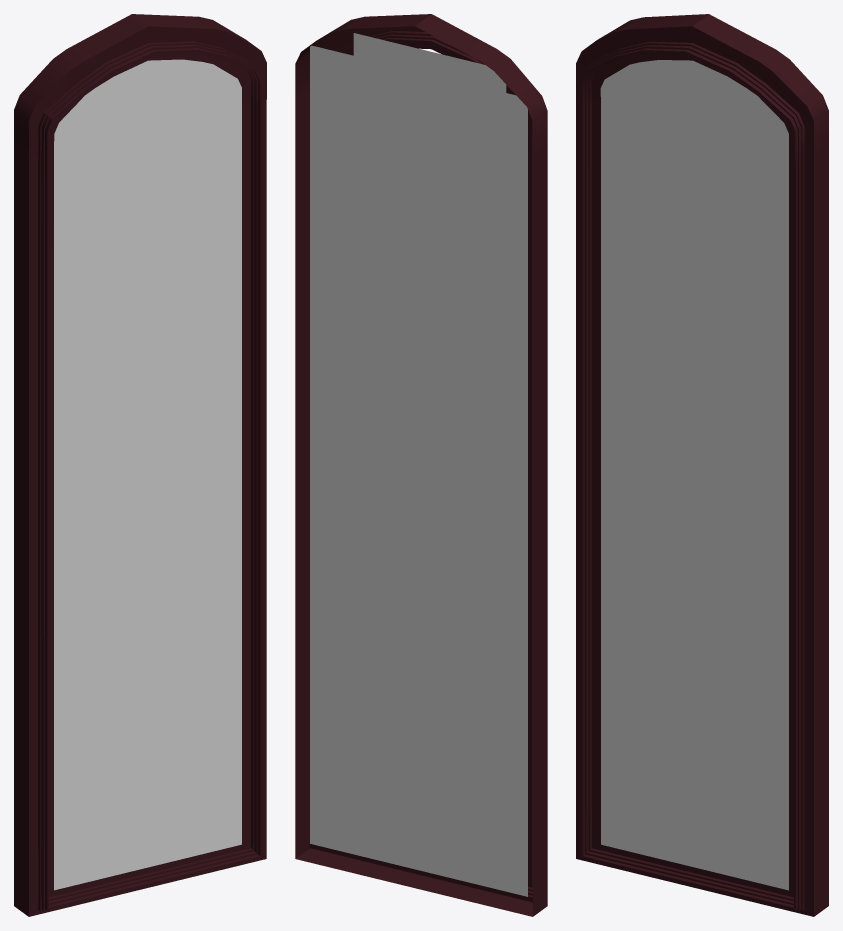
File: Single_Glass_Tall_1_.fbx
3 views of the same model, side by side, from view 1: azimuth 30°, elevation 25°; view 2: azimuth 150°, elevation 25°; view 3: azimuth 330°, elevation 25° (orthographic).
Visible parts, largest first — view 1: Plane.009, Paint 1.004; view 2: Plane.009, Paint 1.004; view 3: Plane.009, Paint 1.004.
Boxes of the visible parts, bbox=[...] form: Plane.009: bbox=[54, 59, 241, 890]; Paint 1.004: bbox=[14, 14, 266, 916]; Plane.009: bbox=[310, 33, 527, 896]; Paint 1.004: bbox=[295, 14, 547, 916]; Plane.009: bbox=[600, 60, 788, 890]; Paint 1.004: bbox=[576, 14, 828, 916].
Size of the model in its own units: 123 by 428 by 20.68.
